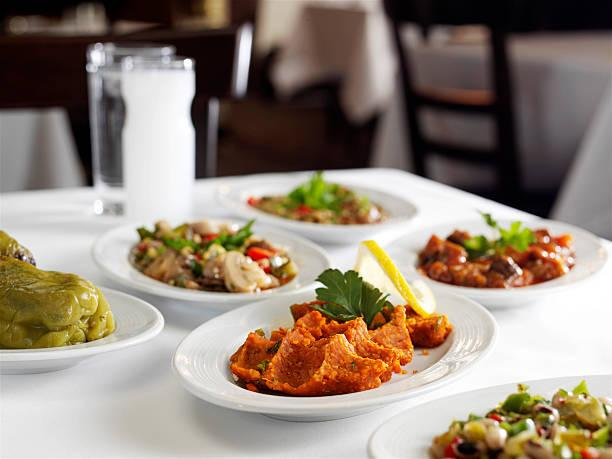Braised Crucian Carp: (171, 286, 495, 420), (92, 216, 328, 306), (391, 216, 607, 309)
